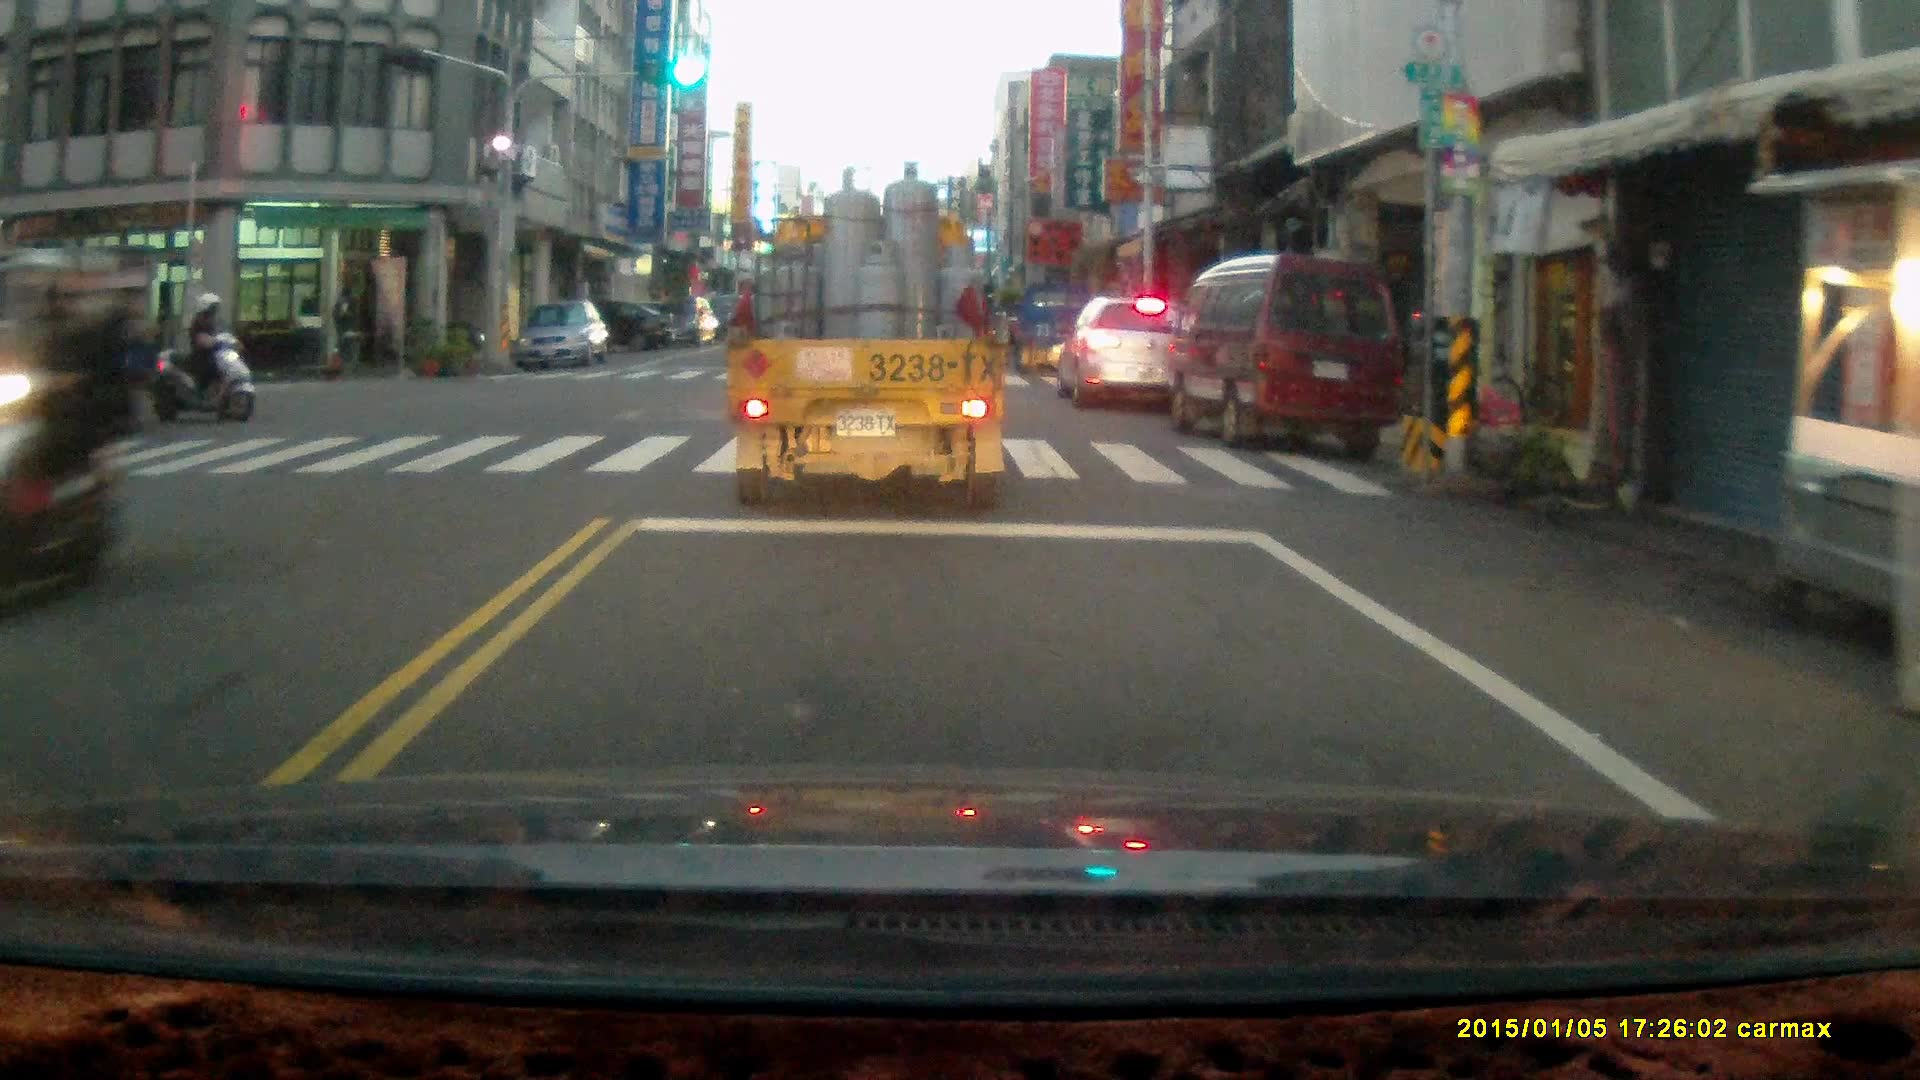pedestrian: (328, 281, 362, 377)
rider: (0, 231, 135, 615), (146, 288, 255, 420)
vehicle: (729, 164, 1016, 512), (1172, 251, 1413, 454), (1, 247, 152, 435), (1051, 289, 1206, 416), (1011, 282, 1099, 381), (547, 298, 676, 358), (516, 299, 614, 373), (635, 296, 718, 344)
